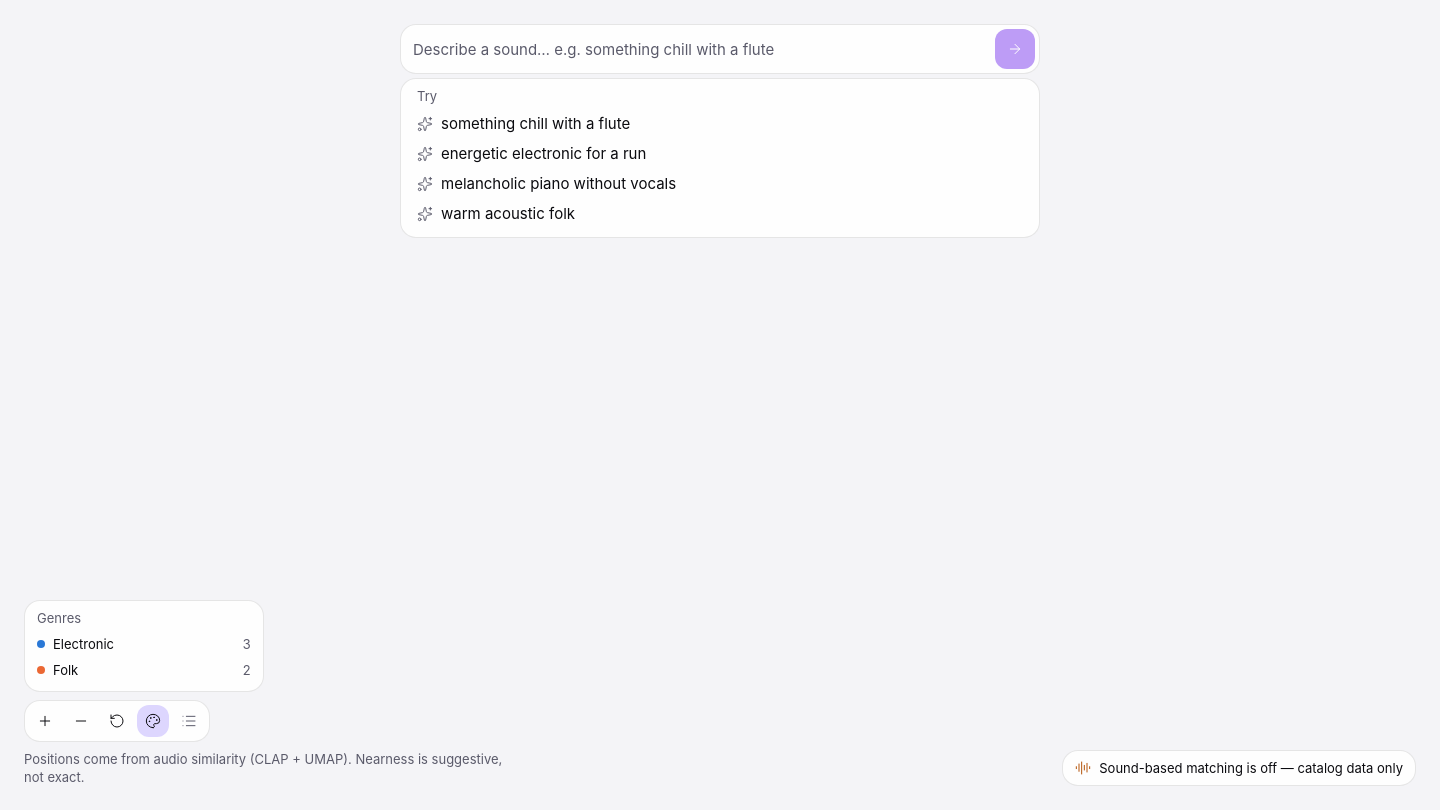
Test: DiscoverPage › degraded semantic: the pill says sound-based matching is off, and results still show
Type "chill flute" into the field named "Search by describing a sound".
click(700, 49); type("chill flute")  # box x1=413 y1=29 x2=987 y2=69
Then press Enter
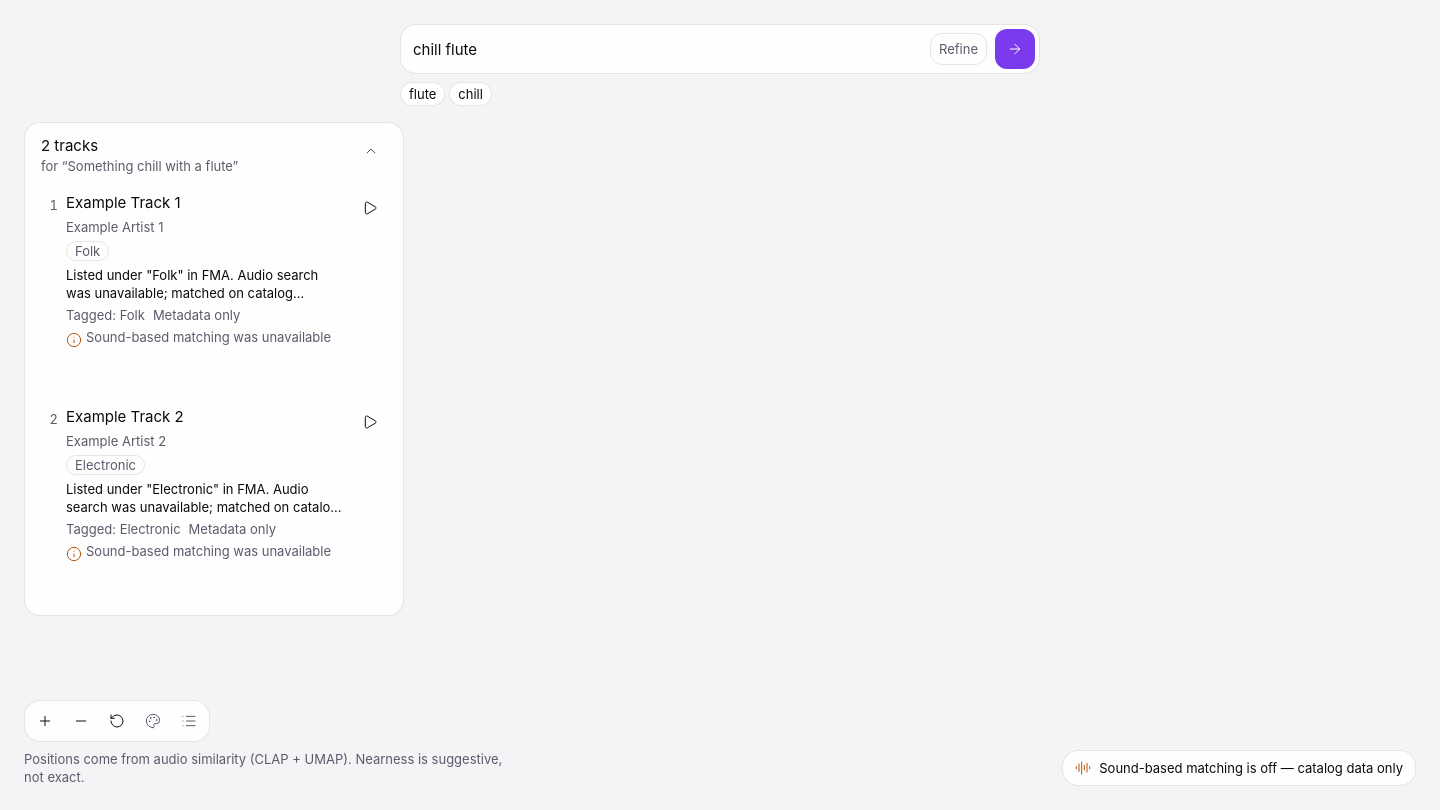
Check: the text "Sound-based matching is off — catalog data only" is shown, box x1=1099 y1=759 x2=1403 y2=777
Check: the list named "Ranked results" is shown, box x1=33 y1=183 x2=395 y2=607
